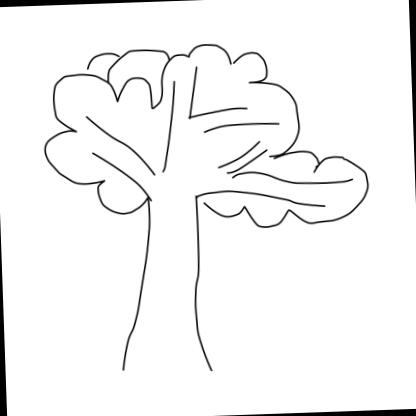branch_line: (83, 66, 284, 211)
crown_cloud: (42, 38, 370, 236)
trunk_straight: (122, 231, 206, 347)
